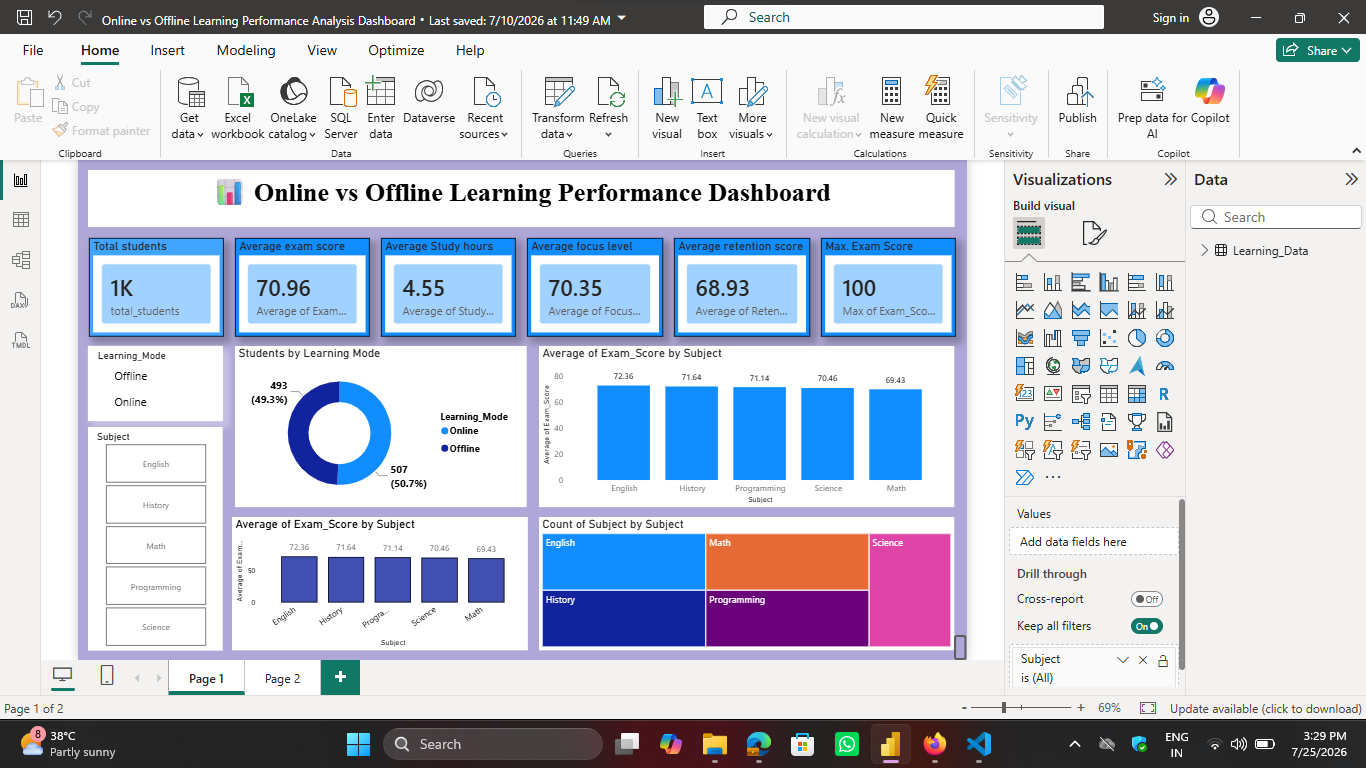

This screenshot's page, from the dashboard's own definition file:
{"tool":"powerbi","page":{"name":"Page 1","canvas":[1280,720],"ordinal":0},"visuals":[{"type":"cardVisual","title":"Total students","fields":{"Data":["Learning_Data.total_students"]},"box":[16,112,194,142],"z":0},{"type":"cardVisual","title":"Average exam score","fields":{"Data":["Avg(Learning_Data.Exam_Score)"]},"box":[226,112,194,142],"z":1000},{"type":"cardVisual","title":"Average Study hours","fields":{"Data":["Avg(Learning_Data.Study_Hours)"]},"box":[436,112,194,142],"z":2000},{"type":"cardVisual","title":"Average focus level","fields":{"Data":["Avg(Learning_Data.Focus_Level)"]},"box":[646,112,196,142],"z":3000},{"type":"cardVisual","title":"Average retention score","fields":{"Data":["Avg(Learning_Data.Retention_Score)"]},"box":[858,112,196,142],"z":4000},{"type":"cardVisual","title":"Max. Exam Score","fields":{"Data":["Max(Learning_Data.Exam_Score)"]},"box":[1070,112,194,142],"z":5000},{"type":"textbox","box":[14,14,1248,82],"z":6000},{"type":"slicer","fields":{"Values":["Learning_Data.Learning_Mode"]},"box":[14,268,194,108],"z":7000},{"type":"donutChart","title":"Students by Learning Mode","fields":{"Category":["Learning_Data.Learning_Mode"],"Y":["CountNonNull(Learning_Data.Learning_Mode)"]},"box":[226,268,420,232],"z":8000},{"type":"clusteredColumnChart","fields":{"Category":["Learning_Data.Subject"],"Y":["Avg(Learning_Data.Exam_Score)"]},"box":[222,514,426,192],"z":9000},{"type":"clusteredColumnChart","fields":{"Category":["Learning_Data.Subject"],"Y":["Avg(Learning_Data.Exam_Score)"]},"box":[664,268,598,232],"z":10000},{"type":"treemap","fields":{"Group":["Learning_Data.Subject"],"Values":["Count(Learning_Data.Subject)"]},"box":[664,514,598,192],"z":11000},{"type":"slicer","fields":{"Values":["Learning_Data.Subject"]},"box":[14,384,194,322],"z":12001},{"type":"actionButton","box":[1262,684,18,36],"z":12002}]}

Visuals, with their boxes on the page's 1280x720 design canvas (x1, y1, x2, y2). These are canvas units, not pixel positions in the 1366x768 screenshot, which may show the page scaled, cropped or inside an application window:
"Total students" cardVisual: x1=16 y1=112 x2=210 y2=254
"Average exam score" cardVisual: x1=226 y1=112 x2=420 y2=254
"Average Study hours" cardVisual: x1=436 y1=112 x2=630 y2=254
"Average focus level" cardVisual: x1=646 y1=112 x2=842 y2=254
"Average retention score" cardVisual: x1=858 y1=112 x2=1054 y2=254
"Max. Exam Score" cardVisual: x1=1070 y1=112 x2=1264 y2=254
textbox: x1=14 y1=14 x2=1262 y2=96
slicer - Learning_Data.Learning_Mode: x1=14 y1=268 x2=208 y2=376
"Students by Learning Mode" donutChart: x1=226 y1=268 x2=646 y2=500
clusteredColumnChart - Learning_Data.Subject x Avg(Learning_Data.Exam_Score): x1=222 y1=514 x2=648 y2=706
clusteredColumnChart - Learning_Data.Subject x Avg(Learning_Data.Exam_Score): x1=664 y1=268 x2=1262 y2=500
treemap - Learning_Data.Subject x Count(Learning_Data.Subject): x1=664 y1=514 x2=1262 y2=706
slicer - Learning_Data.Subject: x1=14 y1=384 x2=208 y2=706
actionButton: x1=1262 y1=684 x2=1280 y2=720
